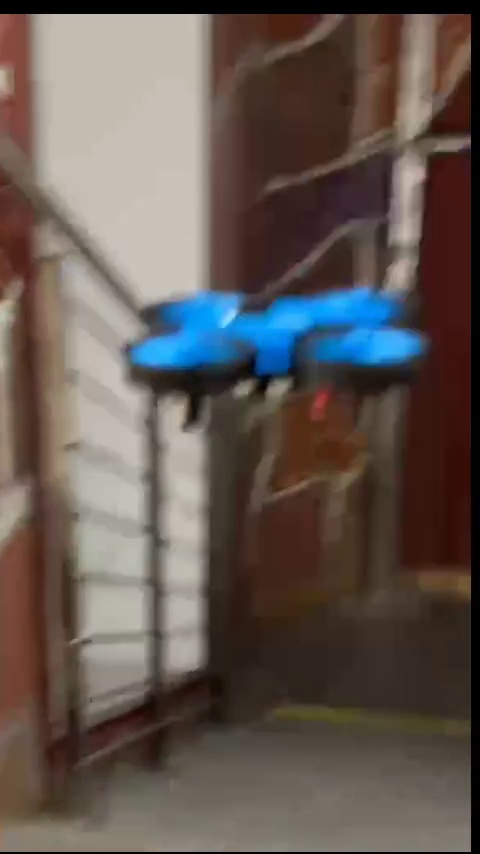drone: (130, 285, 420, 423)
